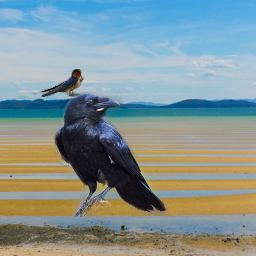Crow: (54, 92, 169, 217)
Swallow: (33, 68, 84, 97)
